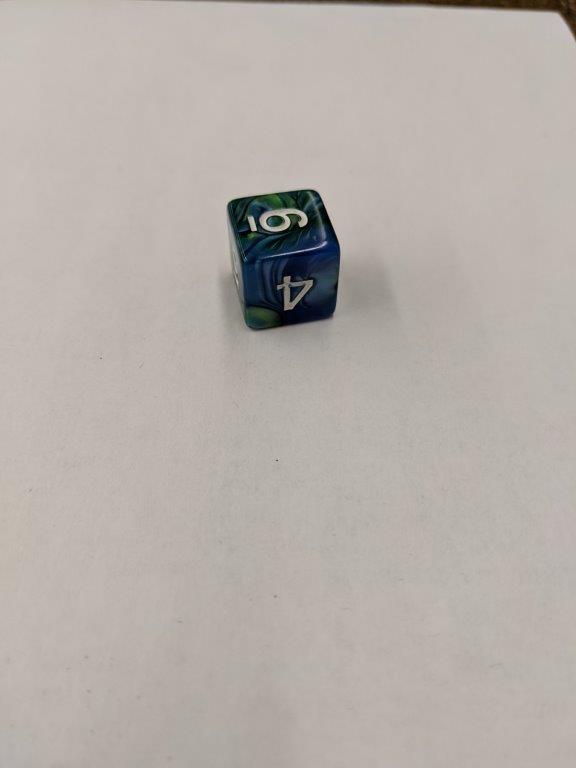d6-6: (224, 185, 342, 332)
